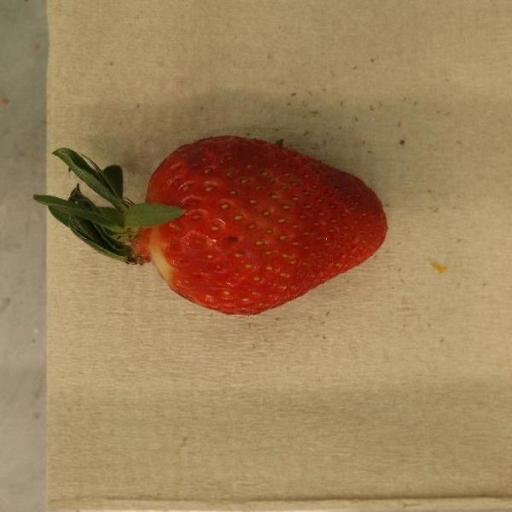Strawberry: (33, 136, 390, 317)
